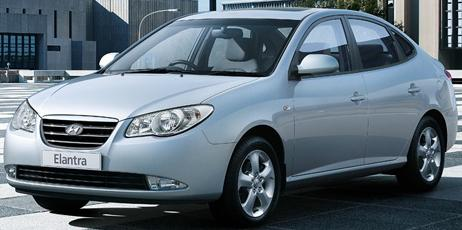front_view: (3, 92, 218, 202)
headlight: (124, 105, 216, 141)
side_glass: (283, 14, 420, 82)
